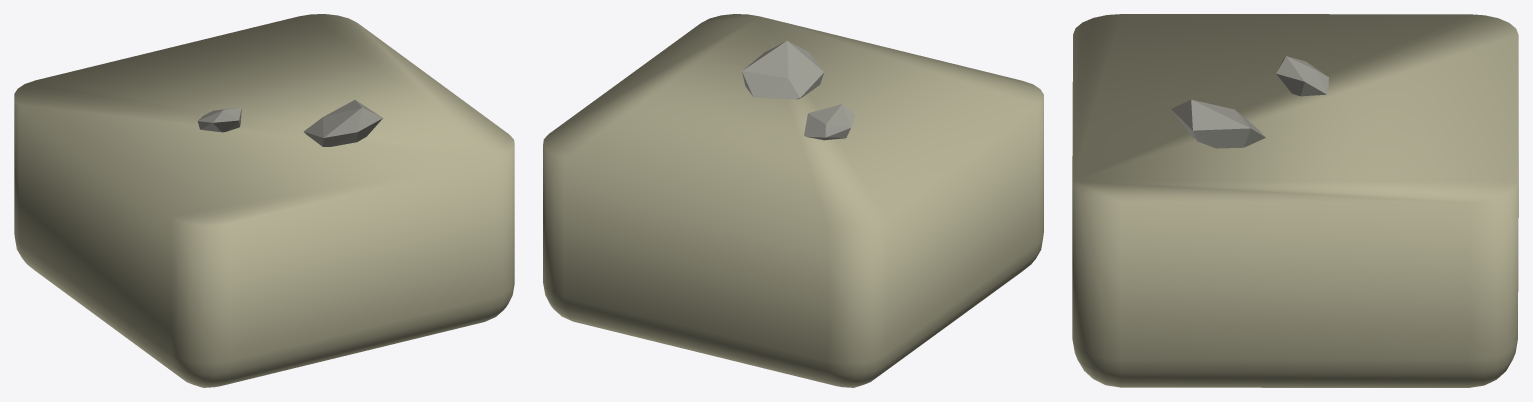
File: pond3.fbx
The picture shows the model from 3 angles, left to right: view 1: azimuth 30°, elevation 25°; view 2: azimuth 150°, elevation 25°; view 3: azimuth 270°, elevation 25°; orthographic projection. The views are drawn at different scales.
Parts seen in each view (by area): view 1: Cube.053; view 2: Cube.053; view 3: Cube.053.
Part boxes in pixels (x1,y1,x2,y2): Cube.053: (14,14,514,387); Cube.053: (543,14,1043,387); Cube.053: (1072,14,1518,387).
Size of the model in its own units: 200 by 119 by 200.
